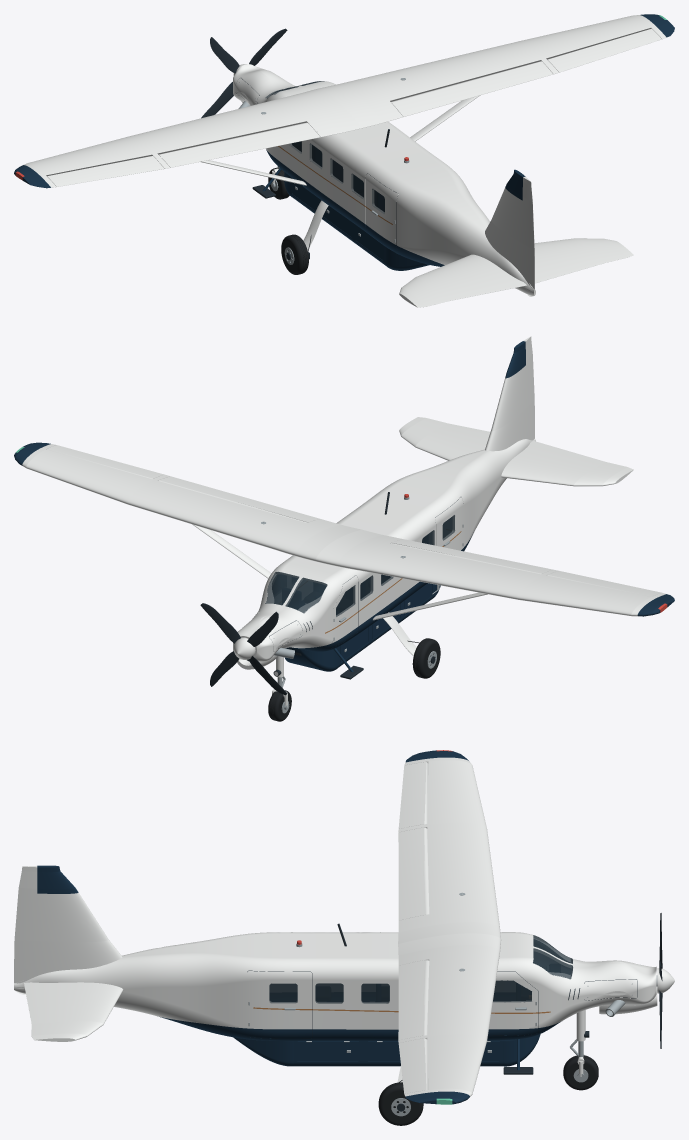
Rendered from heron-ut9.glb.
3 renders of one model, top to bottom at view 1: azimuth 30°, elevation 25°; view 2: azimuth 150°, elevation 25°; view 3: azimuth 270°, elevation 25°, orthographic. The views are drawn at different scales.
Parts seen in each view (by area): view 1: Fuselage, Wing_skin_Right, Wing_skin_Left, Flap_Right_skin, Flap_Left_skin, Cargo_pod, Tailplane_Left, Fin_skin, Aileron_Right_skin, Elevator_skin_Left, Aileron_Left_skin, Elevator_skin_Right (+7 smaller); view 2: Fuselage, Wing_skin_Right, Wing_skin_Left, Tailplane_Left, Cargo_pod, Fin_skin, Tailplane_Right, Propeller, Flap_Right_skin, Elevator_skin_Left, Flap_Left_skin, Aileron_Right_skin (+8 smaller); view 3: Fuselage, Wing_skin_Left, Wing_skin_Right, Fin_skin, Cargo_pod, Curved_belly_livery, Tailplane_Right, Flap_Left_skin, Rudder_skin, Flap_Right_skin, Elevator_skin_Right, Aileron_Left_skin (+10 smaller).
Part boxes in pixels (left/top/right/bottom): Fuselage: left=233, top=64, right=535, bottom=296; Wing_skin_Right: left=319, top=15, right=666, bottom=128; Wing_skin_Left: left=24, top=88, right=361, bottom=187; Flap_Right_skin: left=391, top=61, right=553, bottom=116; Flap_Left_skin: left=159, top=122, right=320, bottom=167; Cargo_pod: left=284, top=172, right=429, bottom=270; Tailplane_Left: left=399, top=254, right=526, bottom=300; Fin_skin: left=485, top=188, right=522, bottom=274; Aileron_Right_skin: left=547, top=28, right=661, bottom=72; Elevator_skin_Left: left=407, top=272, right=525, bottom=307; Aileron_Left_skin: left=47, top=156, right=164, bottom=186; Elevator_skin_Right: left=535, top=245, right=633, bottom=283; Fuselage: left=233, top=439, right=535, bottom=661; Wing_skin_Right: left=22, top=444, right=361, bottom=561; Wing_skin_Left: left=316, top=529, right=665, bottom=616; Tailplane_Left: left=501, top=441, right=622, bottom=486; Cargo_pod: left=284, top=583, right=440, bottom=671; Fin_skin: left=485, top=365, right=526, bottom=451; Tailplane_Right: left=399, top=423, right=487, bottom=460; Propeller: left=200, top=603, right=287, bottom=695; Flap_Right_skin: left=158, top=476, right=319, bottom=522; Elevator_skin_Left: left=523, top=441, right=633, bottom=478; Flap_Left_skin: left=391, top=539, right=552, bottom=574; Aileron_Right_skin: left=47, top=445, right=164, bottom=479; Fuselage: left=14, top=932, right=656, bottom=1029; Wing_skin_Left: left=398, top=757, right=500, bottom=943; Wing_skin_Right: left=398, top=933, right=501, bottom=1096; Fin_skin: left=37, top=893, right=122, bottom=975; Cargo_pod: left=233, top=1034, right=540, bottom=1066; Curved_belly_livery: left=160, top=1017, right=560, bottom=1041; Tailplane_Right: left=24, top=982, right=123, bottom=1041; Flap_Left_skin: left=398, top=827, right=429, bottom=920; Rudder_skin: left=14, top=866, right=37, bottom=983; Flap_Right_skin: left=398, top=960, right=429, bottom=1040; Elevator_skin_Right: left=24, top=982, right=58, bottom=1041; Aileron_Left_skin: left=398, top=762, right=428, bottom=828.
Size of the model in its own units: 15.87 by 4.7 by 12.67.
